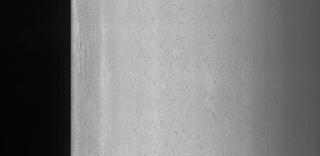silk spot: (128, 5, 246, 152)
